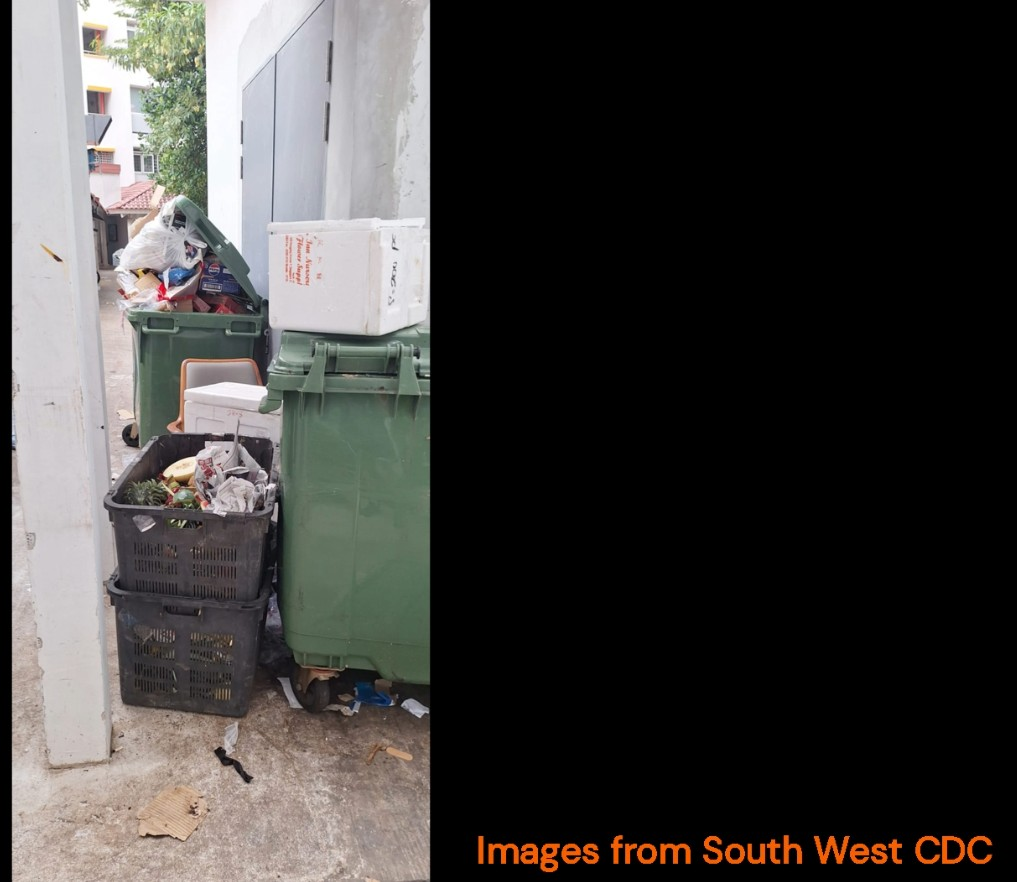bin_empty: (264, 324, 429, 708)
bin_full: (118, 196, 267, 443)
bulk_waste: (104, 433, 274, 600), (107, 573, 270, 715), (268, 218, 429, 336), (167, 358, 280, 441)
